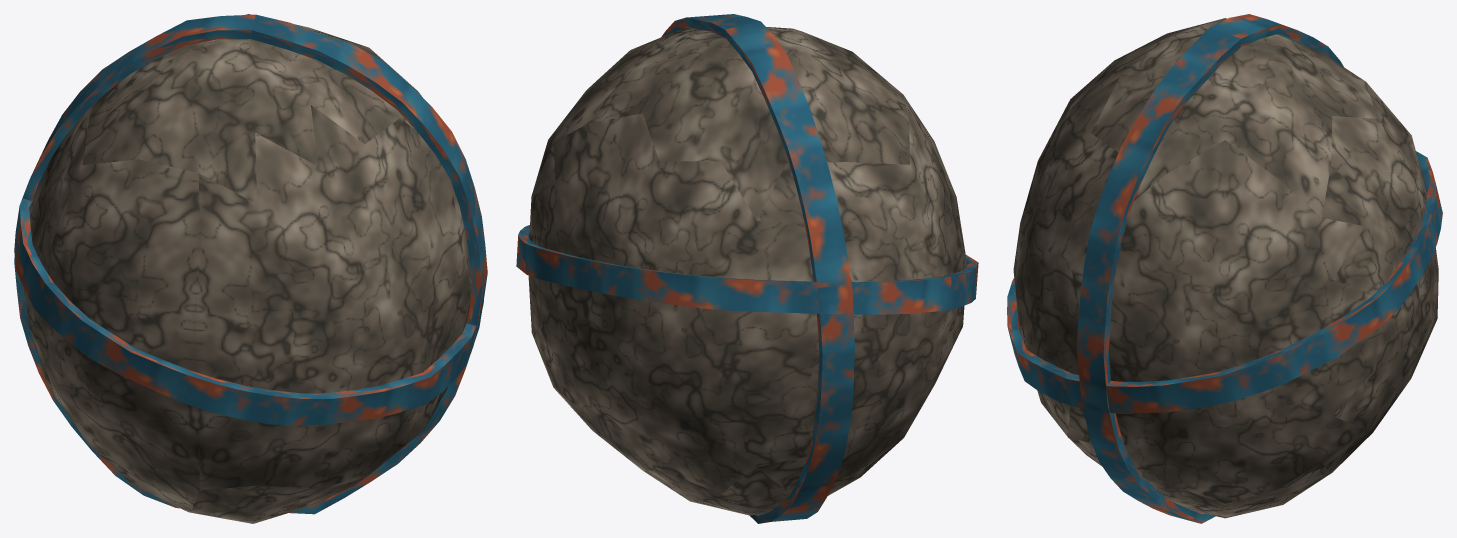
Rendered from boulder.glb.
3 renders of one model, left to right at view 1: azimuth 30°, elevation 25°; view 2: azimuth 150°, elevation 25°; view 3: azimuth 270°, elevation 25°, orthographic. The views are drawn at different scales.
Parts seen in each view (by area): view 1: Boulder; view 2: Boulder; view 3: Boulder.
Part boxes in pixels (x1,y1,x2,y2): Boulder: (14, 14, 487, 523); Boulder: (516, 14, 978, 523); Boulder: (1007, 14, 1442, 523).
Size of the model in its own units: 1.05 by 1.14 by 0.9676.
3 materials, 3 textured.
